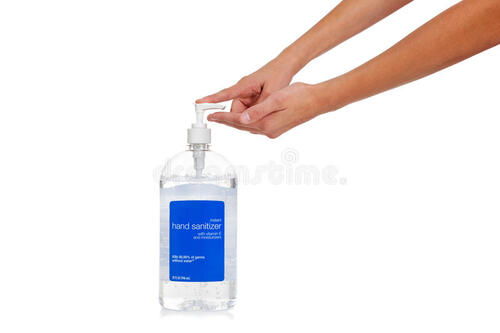sanitizer: (151, 90, 239, 312)
